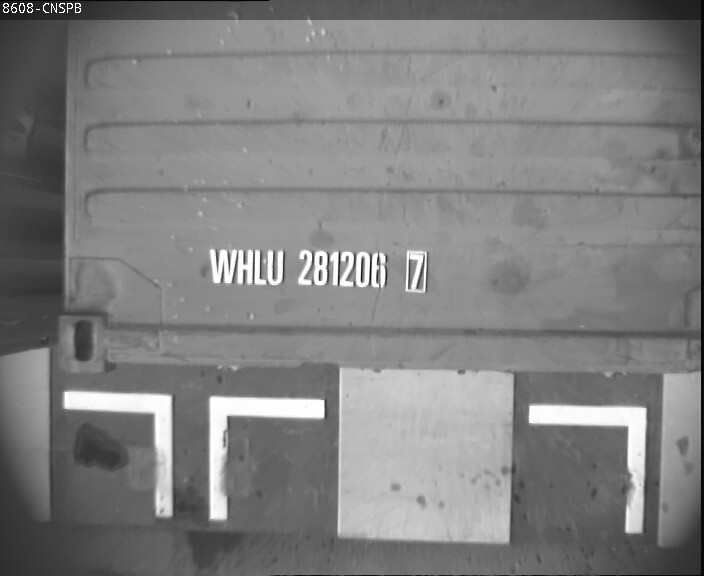groundmarker_1: (62, 389, 325, 519)
